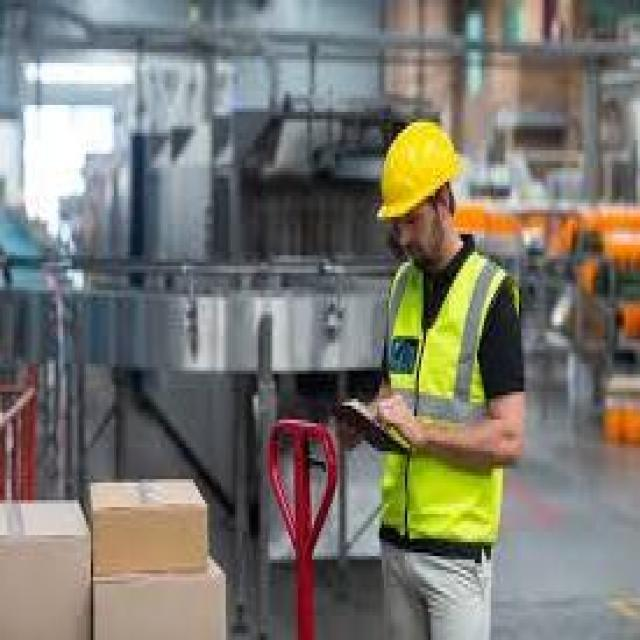reflective_jacket: (360, 244, 537, 566)
safety_helmet: (363, 108, 474, 234)
